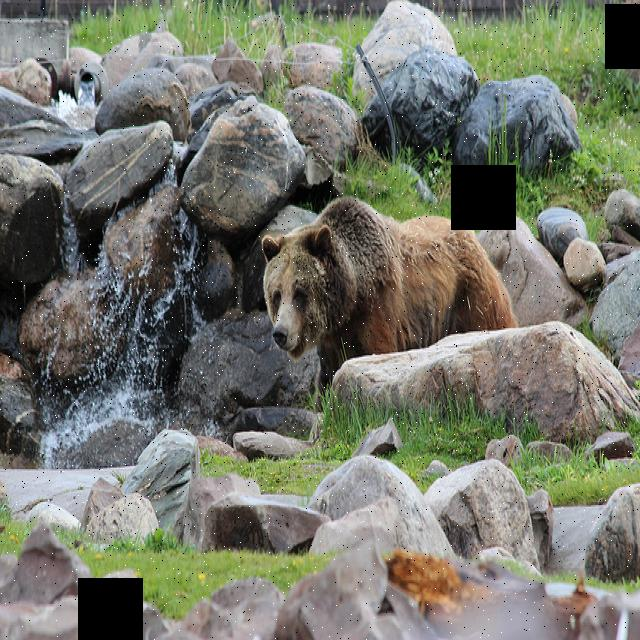Bear: (259, 194, 519, 379)
